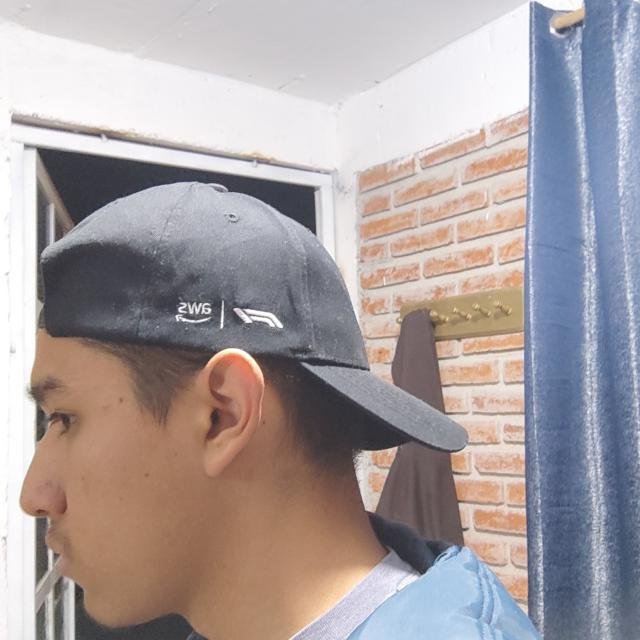ear: (190, 349, 265, 478)
